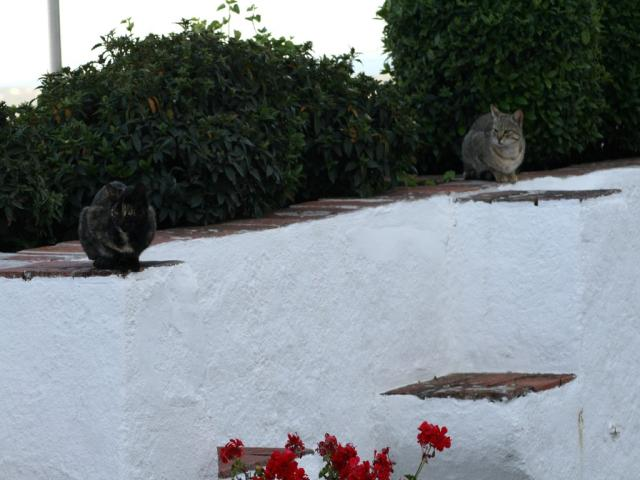Cat: (77, 179, 158, 268), (458, 102, 527, 184)
